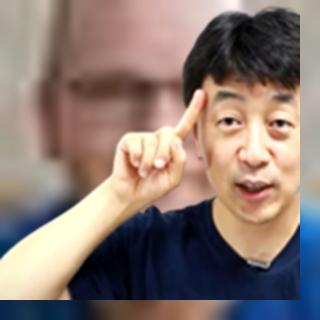IRRITATED: (109, 85, 211, 211)
